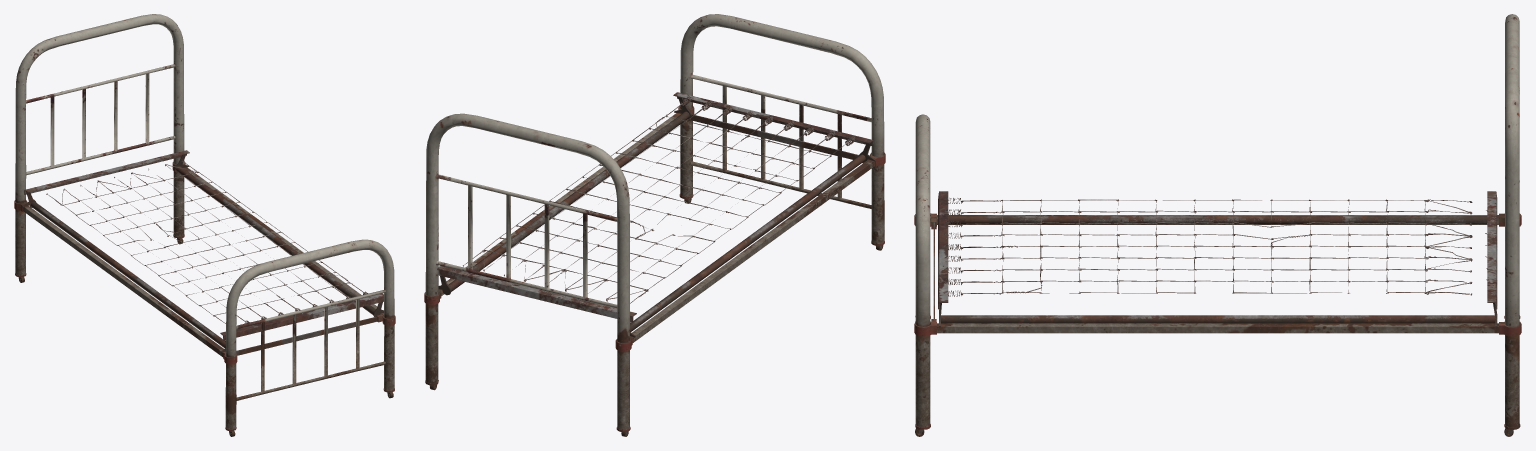
The picture shows the model from 3 angles, left to right: view 1: azimuth 30°, elevation 25°; view 2: azimuth 150°, elevation 25°; view 3: azimuth 270°, elevation 25°; orthographic projection. The views are drawn at different scales.
Parts seen in each view (by area): view 1: old_bed_frame; view 2: old_bed_frame; view 3: old_bed_frame.
Part boxes in pixels (bbox=[...]): old_bed_frame: bbox=[14, 14, 395, 436]; old_bed_frame: bbox=[424, 14, 885, 436]; old_bed_frame: bbox=[914, 14, 1521, 436].
Size of the model in its own units: 0.9047 by 1.2 by 2.
1 material, 1 textured.
